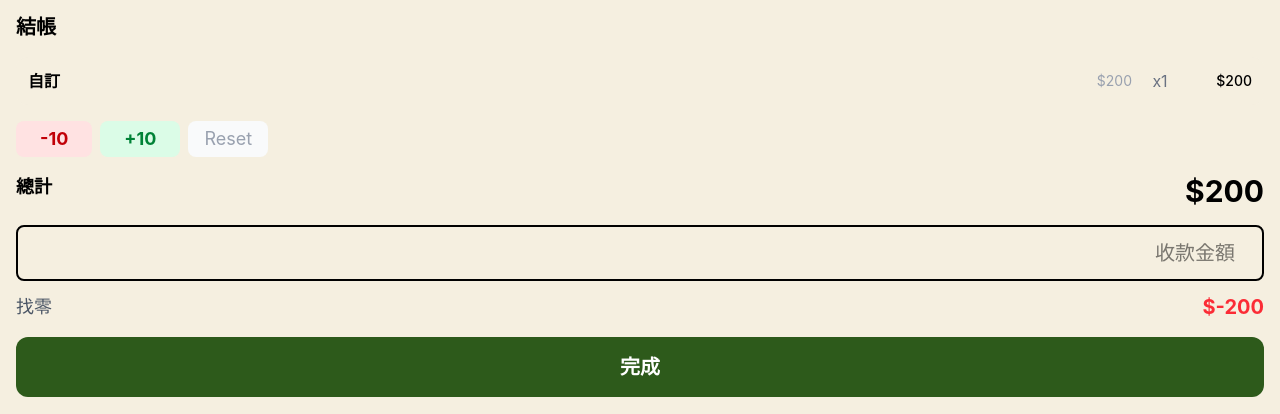
Test: CheckoutFlow › shows + sign for positive discount
Click the button "+10" at point(140, 139), box [100, 121, 180, 157]
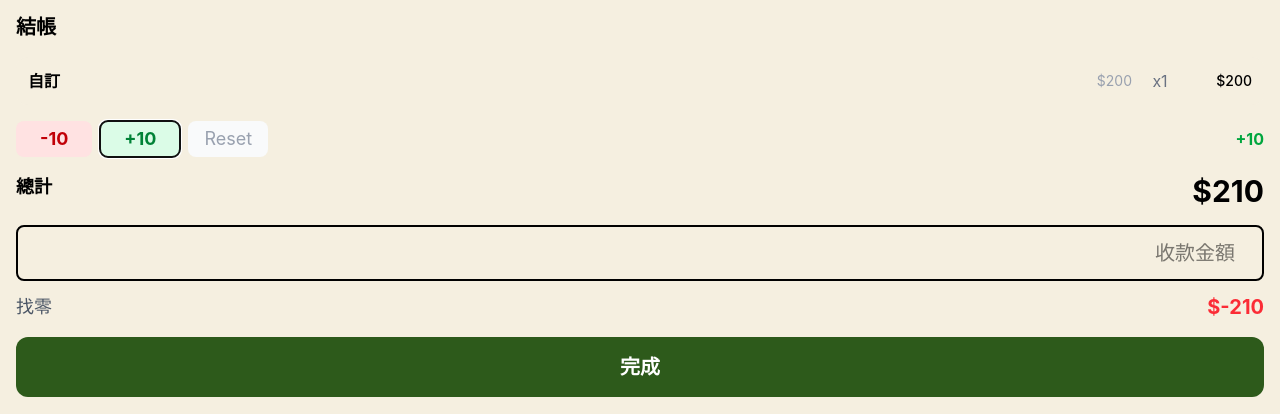
Expected: the text "+10" is shown, [1236, 127, 1264, 151]
